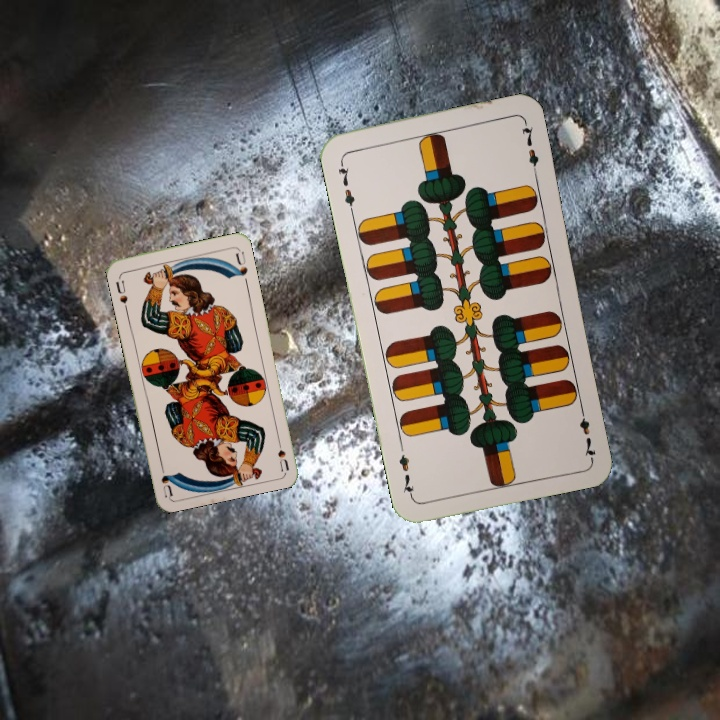E7: (575, 402, 599, 461), (334, 156, 357, 214)
SU: (273, 432, 291, 472), (112, 277, 130, 313)
